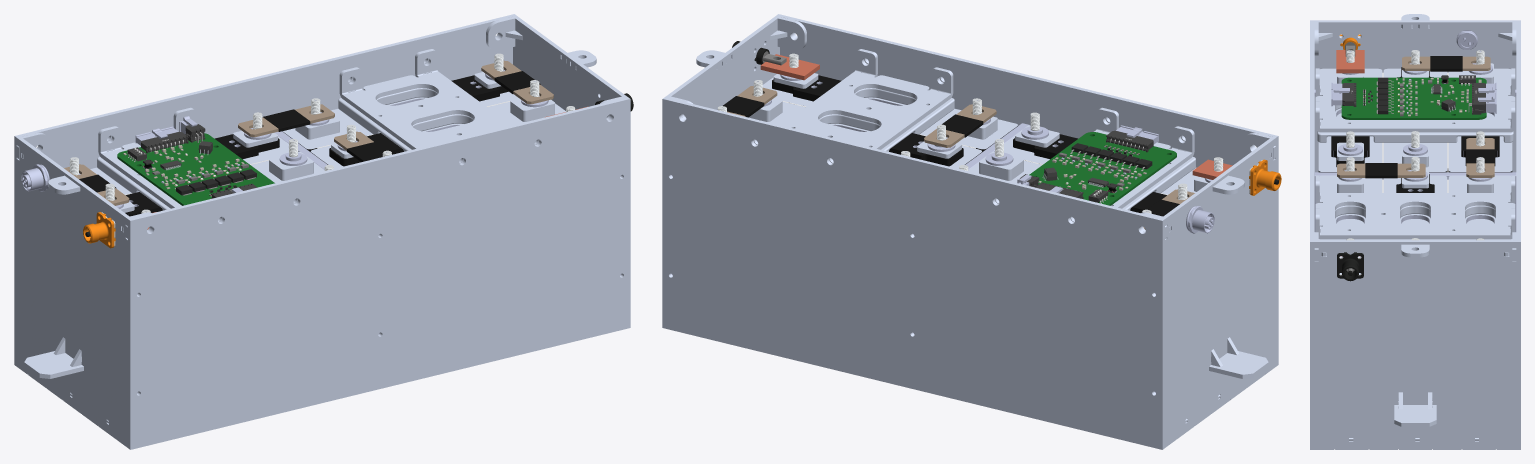
The model's file is slave_container_assembly.glb.
3 views of the same model, side by side, from view 1: azimuth 30°, elevation 25°; view 2: azimuth 150°, elevation 25°; view 3: azimuth 270°, elevation 25° (orthographic). The views are drawn at different scales.
Parts seen in each view (by area): view 1: mesh_4; view 2: mesh_4; view 3: mesh_4.
Part boxes in pixels (x1,y1,x2,y2): mesh_4: (14,14,633,449); mesh_4: (662,14,1281,449); mesh_4: (1310,14,1520,449).
Size of the model in its own units: 0.431 by 0.1624 by 0.1491.
